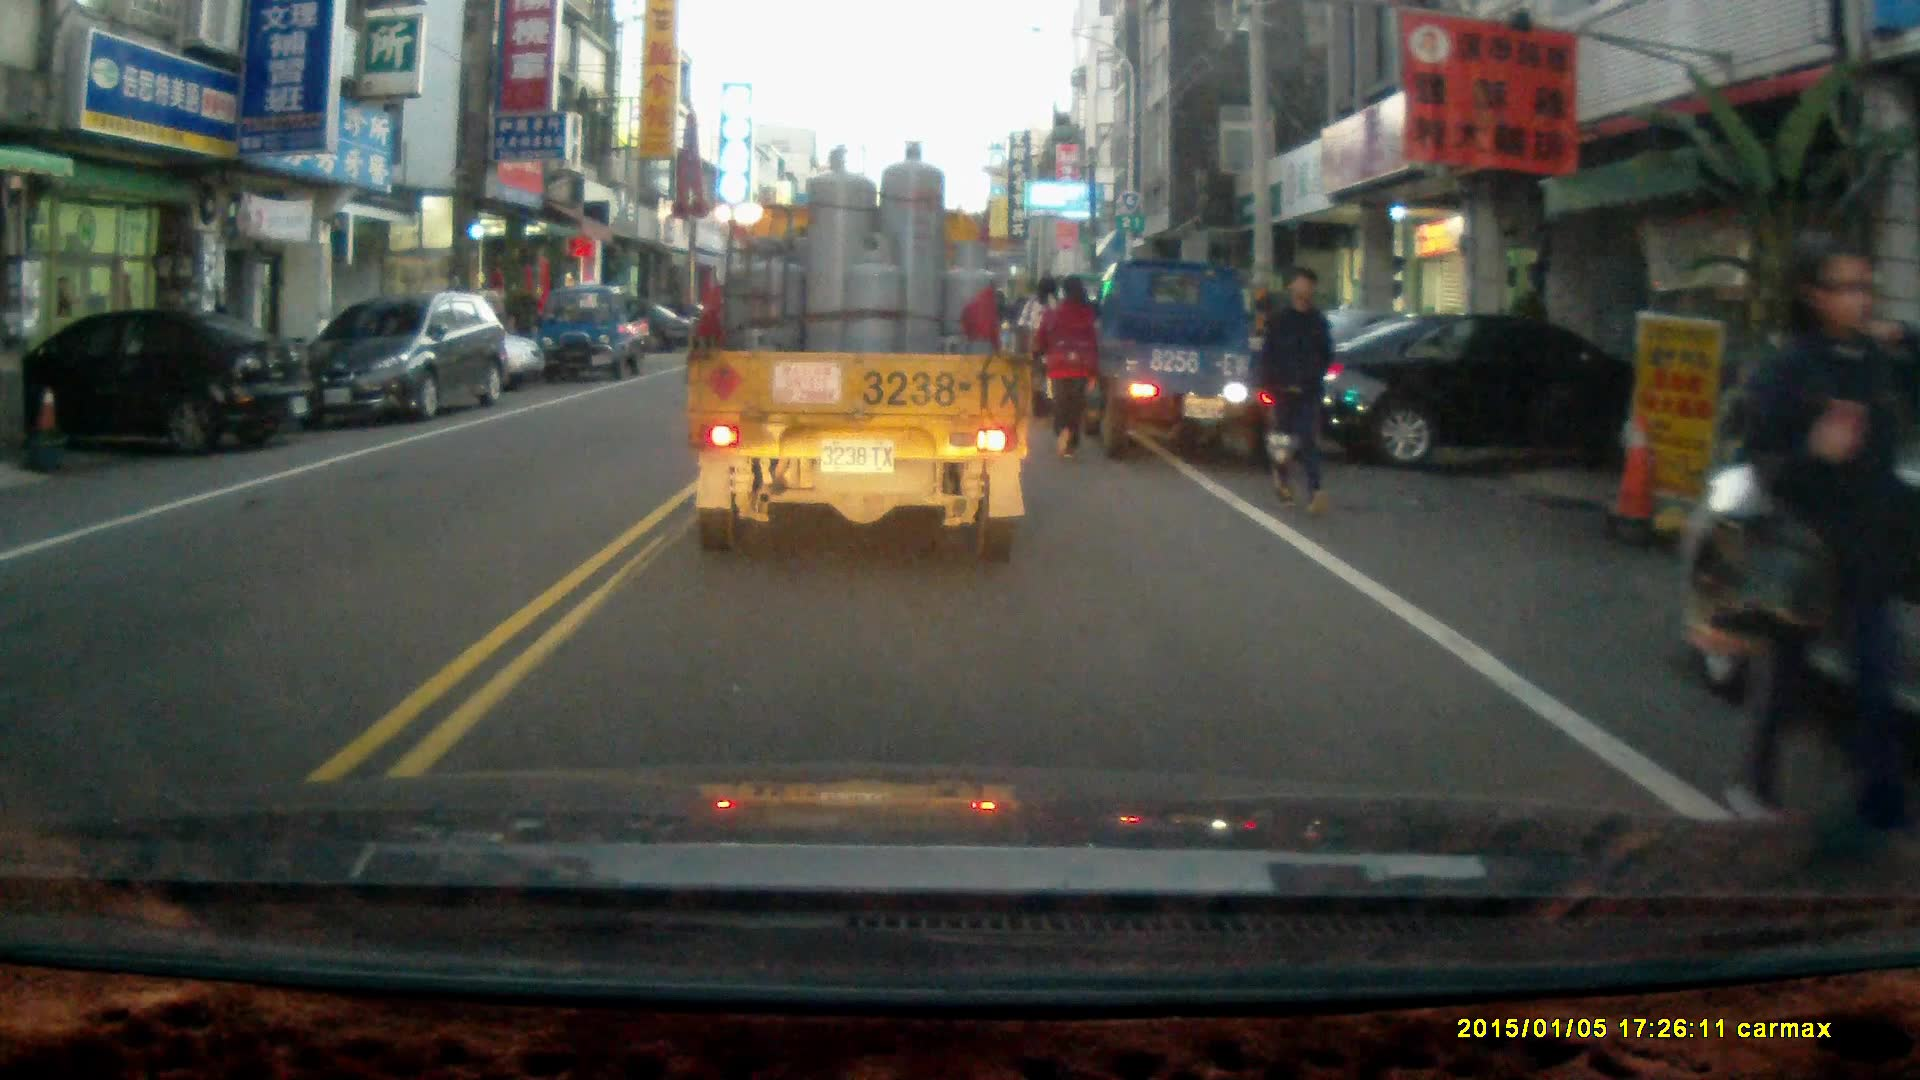pedestrian: (1720, 234, 1920, 831), (1252, 261, 1333, 513), (1031, 268, 1097, 460)
vehicle: (680, 138, 1035, 567), (1670, 418, 1920, 710), (1286, 303, 1625, 482), (1, 304, 321, 459), (1088, 256, 1317, 467), (289, 290, 518, 426), (536, 278, 653, 379)
